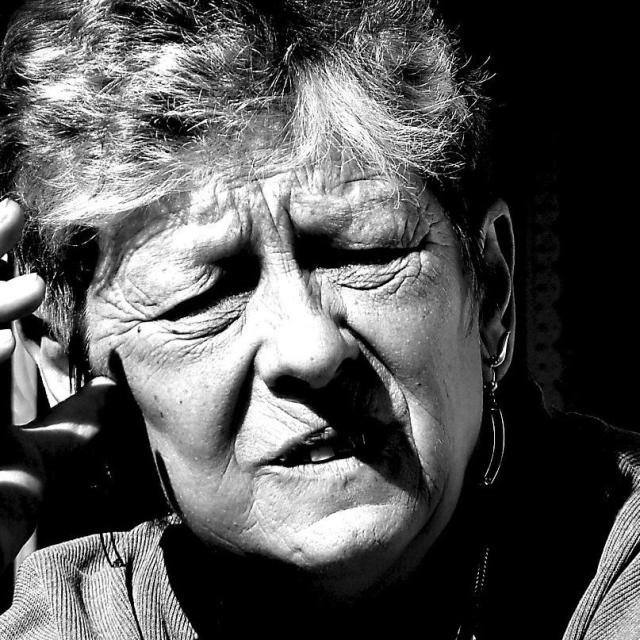Depress: (86, 105, 490, 573)
